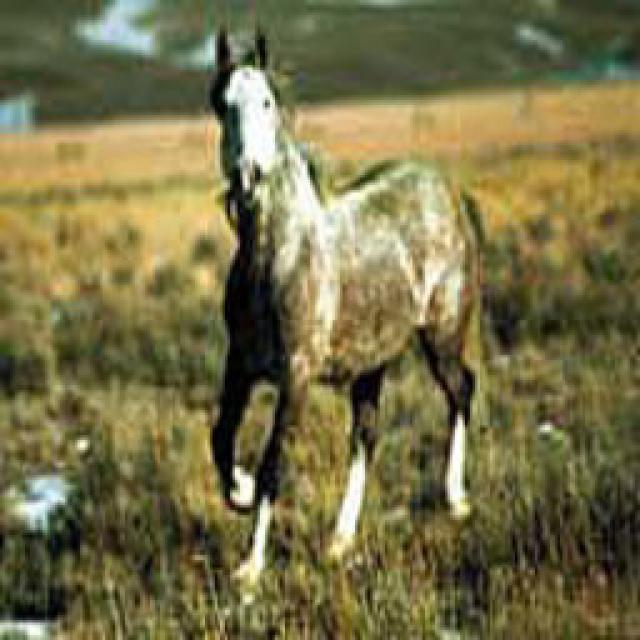Horse: (203, 37, 490, 586)
